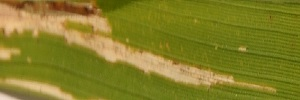RiceBacterialBlight: (1, 1, 236, 95)
